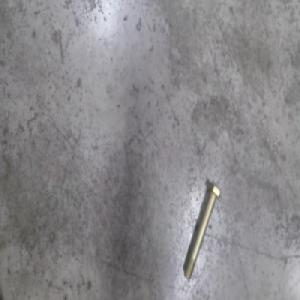Bolt: (182, 185, 221, 282)
